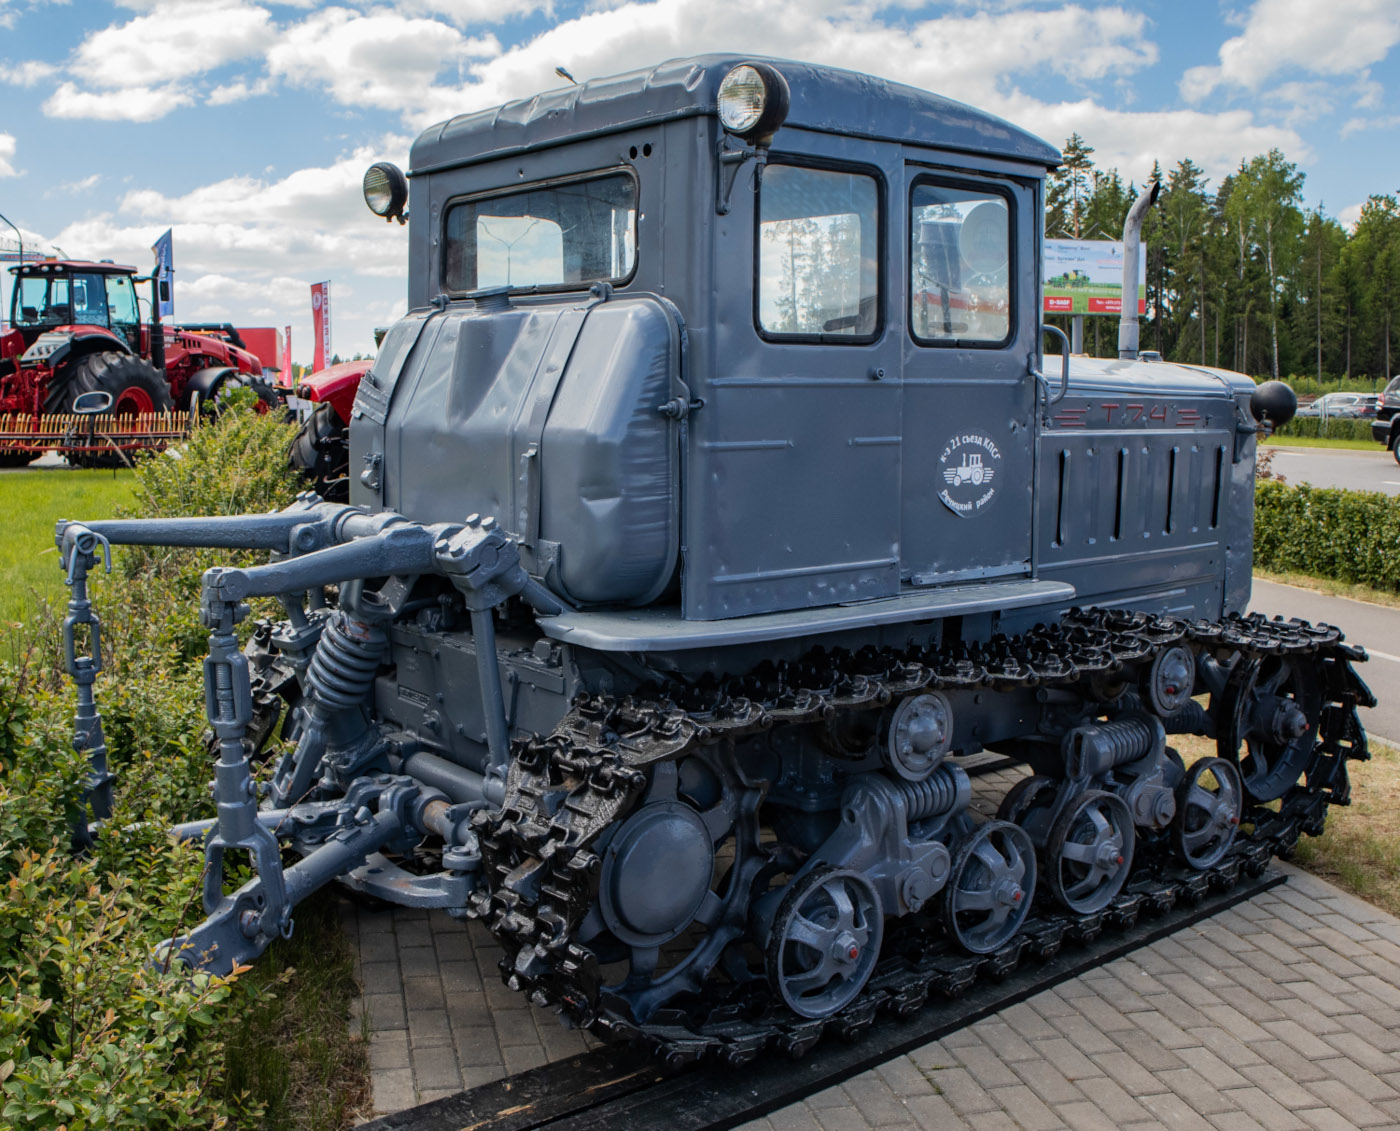tractor: (199, 52, 1379, 1085)
